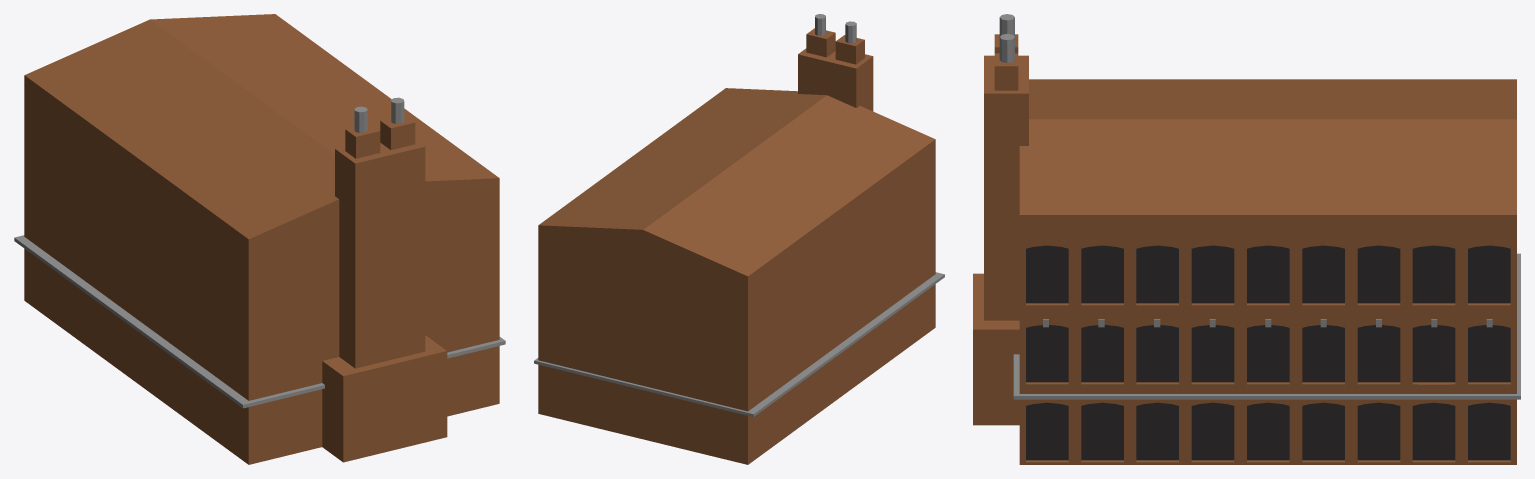
Rendered from P_IndustrialBuilding.fbx.
The picture shows the model from 3 angles, left to right: view 1: azimuth 30°, elevation 25°; view 2: azimuth 150°, elevation 25°; view 3: azimuth 270°, elevation 25°; orthographic projection. The views are drawn at different scales.
Parts seen in each view (by area): view 1: P_IndustrialBuilding_01; view 2: P_IndustrialBuilding_01; view 3: P_IndustrialBuilding_01.
Part boxes in pixels (x1,y1,x2,y2): P_IndustrialBuilding_01: (14, 14, 505, 464); P_IndustrialBuilding_01: (534, 14, 944, 464); P_IndustrialBuilding_01: (973, 14, 1520, 464).
Size of the model in its own units: 2242 by 2721 by 3652.
